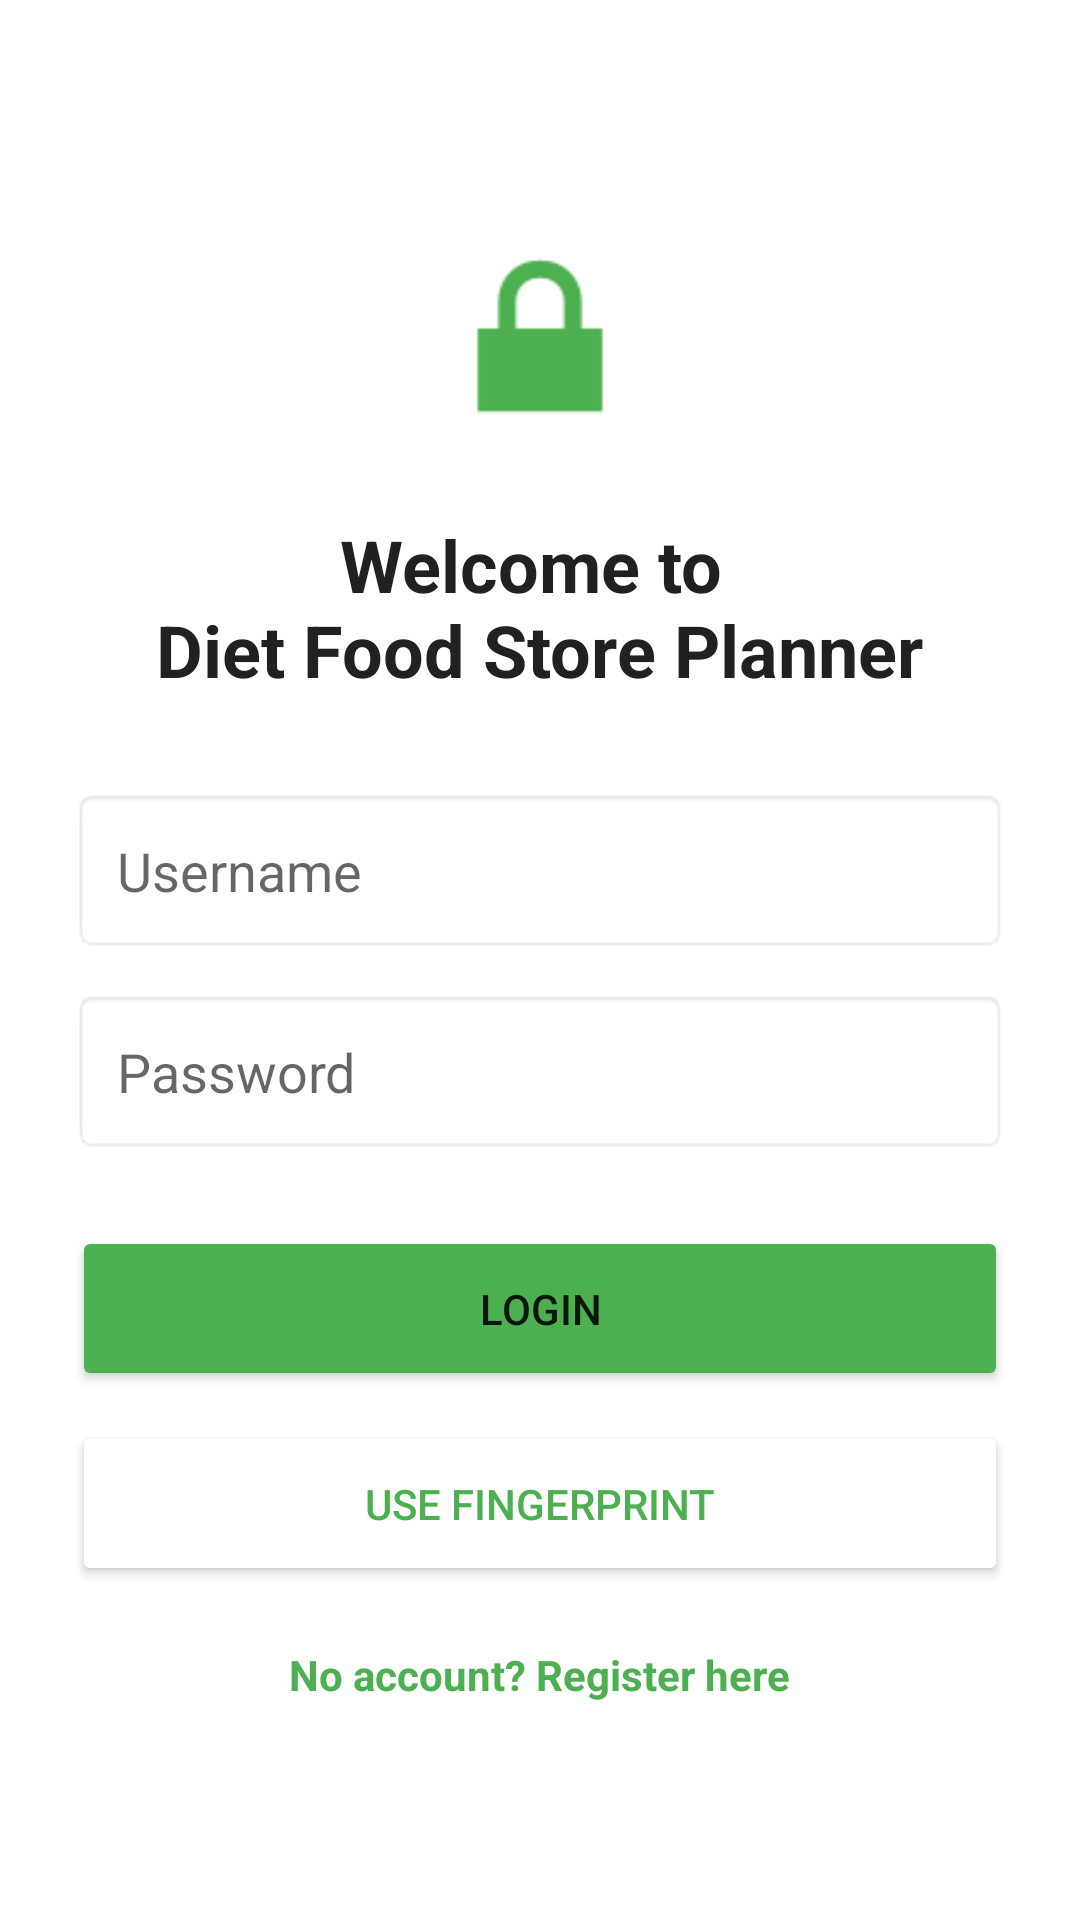

Named icons in this screenshot (1080x1920) and their centers, point (x, y):
lock: point (540, 336)
